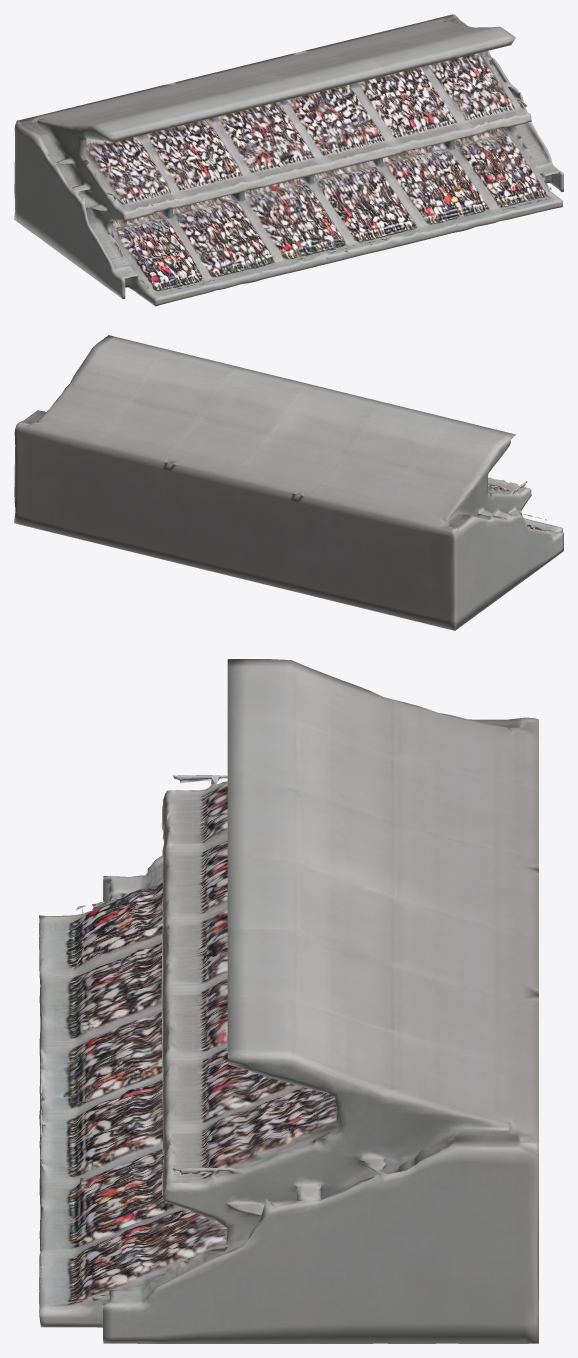
The model's file is stadium-stand.glb.
3 renders of one model, top to bottom at view 1: azimuth 30°, elevation 25°; view 2: azimuth 150°, elevation 25°; view 3: azimuth 270°, elevation 25°, orthographic. The views are drawn at different scales.
Parts seen in each view (by area): view 1: model; view 2: model; view 3: model.
Part boxes in pixels (x1,y1,x2,y2): model: (14,14,563,306); model: (14,335,563,630); model: (39,659,538,1343).
Size of the model in its own units: 1.89 by 0.5554 by 0.9297.
1 material, 1 textured.
